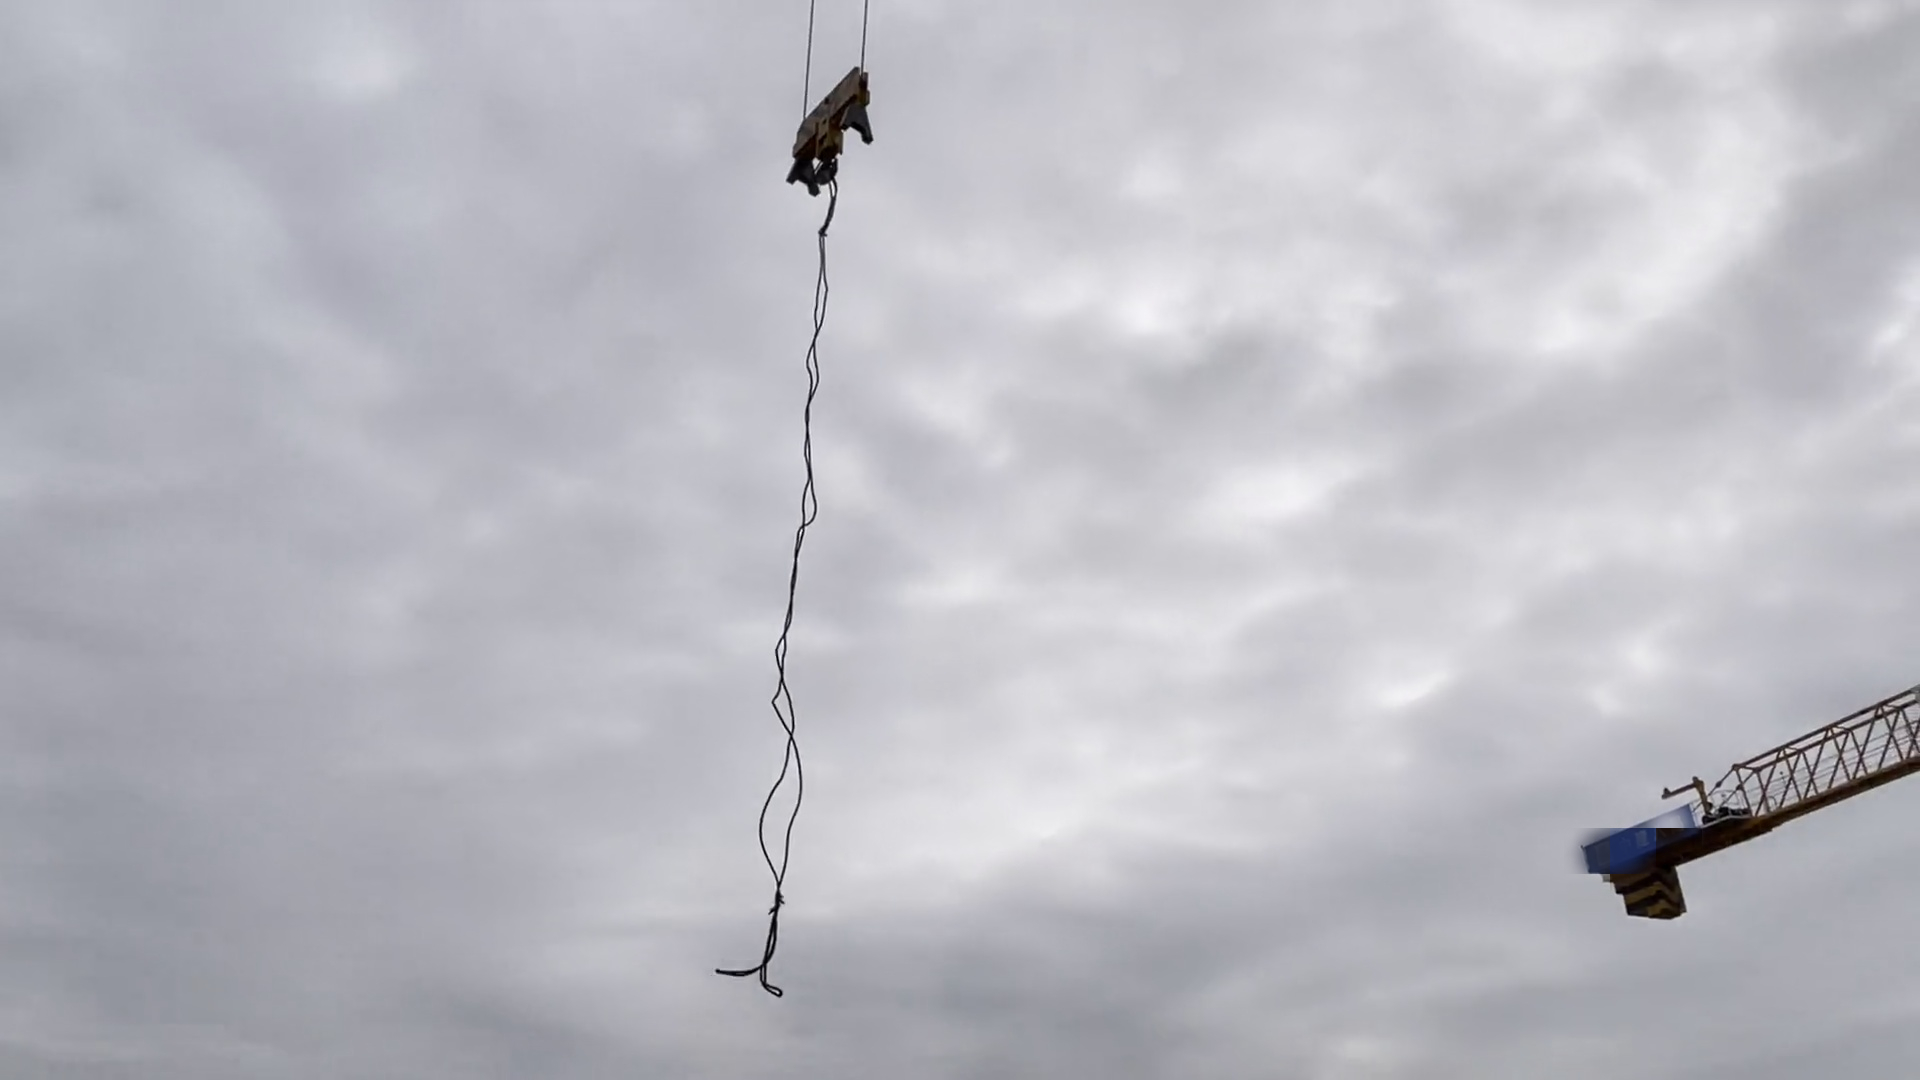hook: (785, 69, 873, 196)
